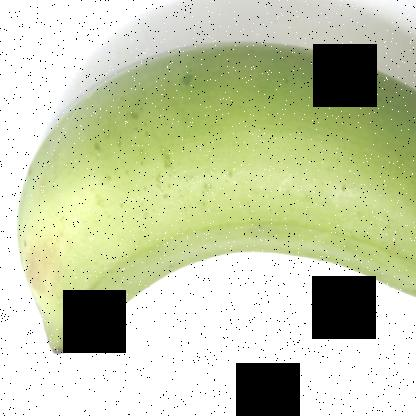freshunripe: (8, 22, 416, 370)
